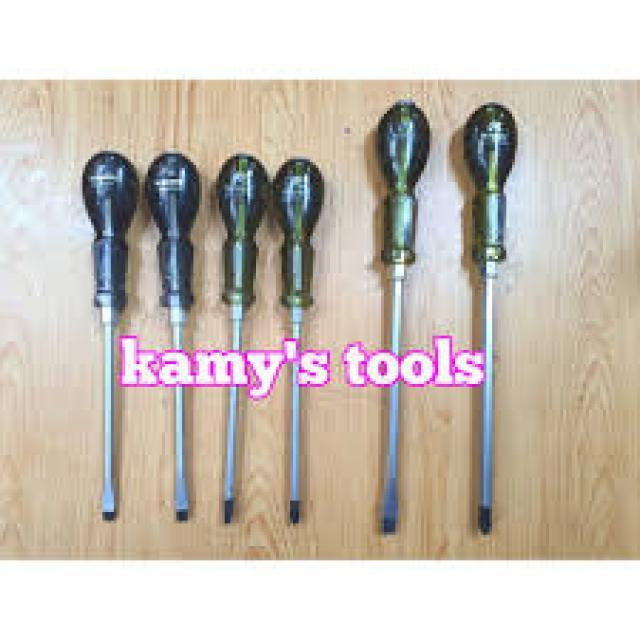screwdriver: (452, 92, 524, 545), (370, 90, 438, 540), (72, 147, 141, 524), (266, 143, 326, 540), (142, 147, 205, 524), (214, 147, 268, 528)
